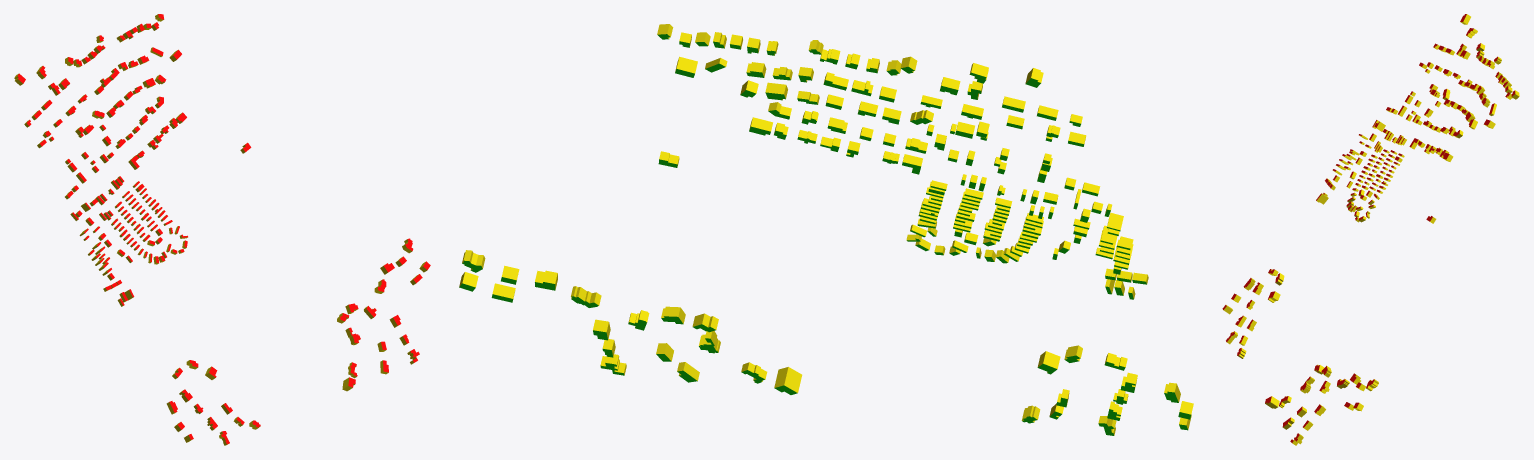
3 views of the same model, side by side, from view 1: azimuth 30°, elevation 25°; view 2: azimuth 150°, elevation 25°; view 3: azimuth 270°, elevation 25° (orthographic). The views are drawn at different scales.
Parts seen in each view (by area): view 1: mesh; view 2: mesh; view 3: mesh.
Part boxes in pixels (box(x1,y1,x2,y2)): mesh: box(14, 14, 430, 445); mesh: box(459, 24, 1193, 435); mesh: box(1222, 14, 1519, 445).
Size of the model in its own units: 1052 by 840 by 772.
